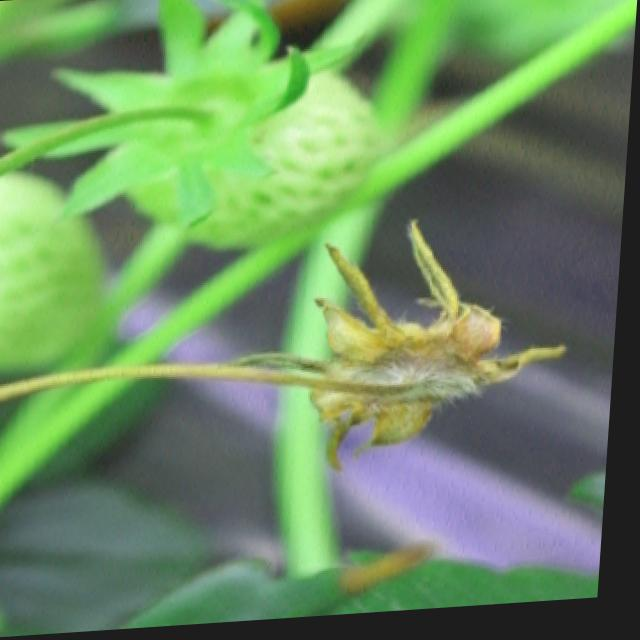Gray Mold: (225, 223, 573, 479)
